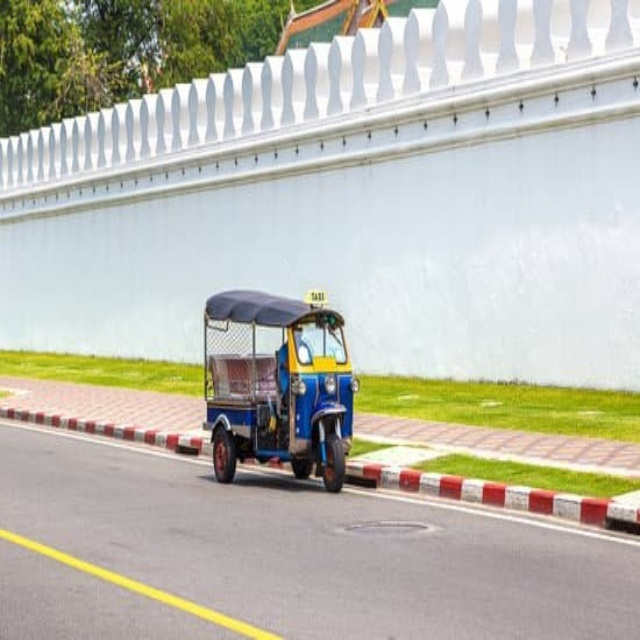Motorcycle: (201, 288, 360, 495)
